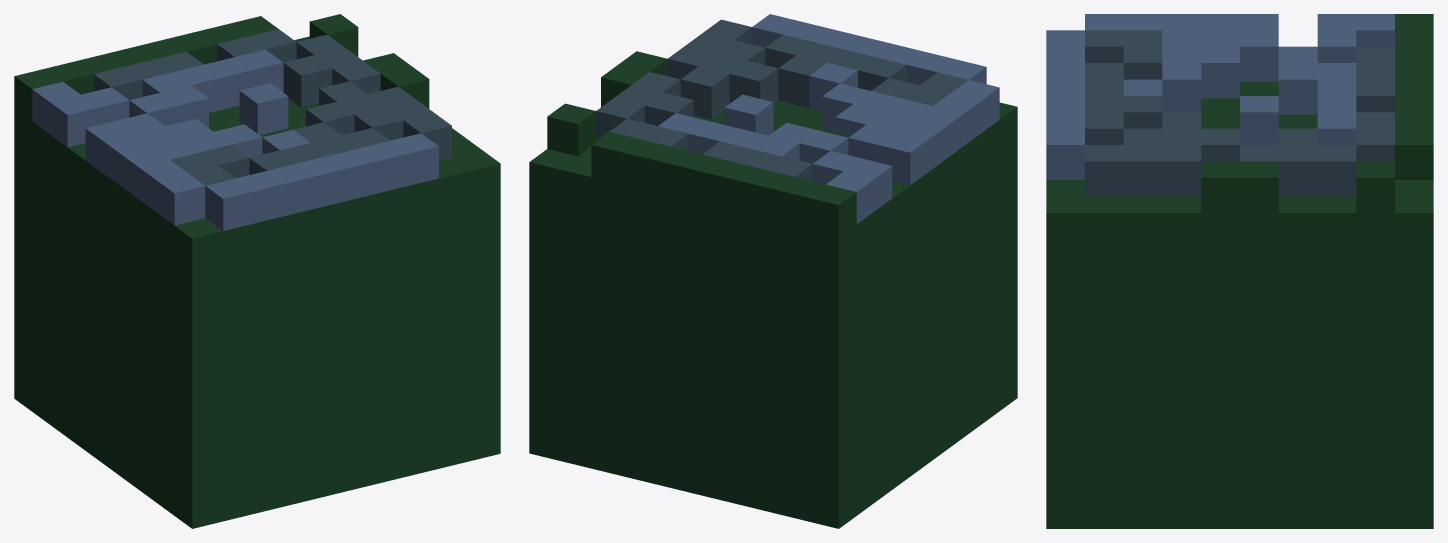
File: Floor 7.obj
The picture shows the model from 3 angles, left to right: view 1: azimuth 30°, elevation 25°; view 2: azimuth 150°, elevation 25°; view 3: azimuth 270°, elevation 25°; orthographic projection. The views are drawn at different scales.
Bounding box in the file's own units: 10 × 10 × 10.
Materials: 1 (1 with a texture image).
